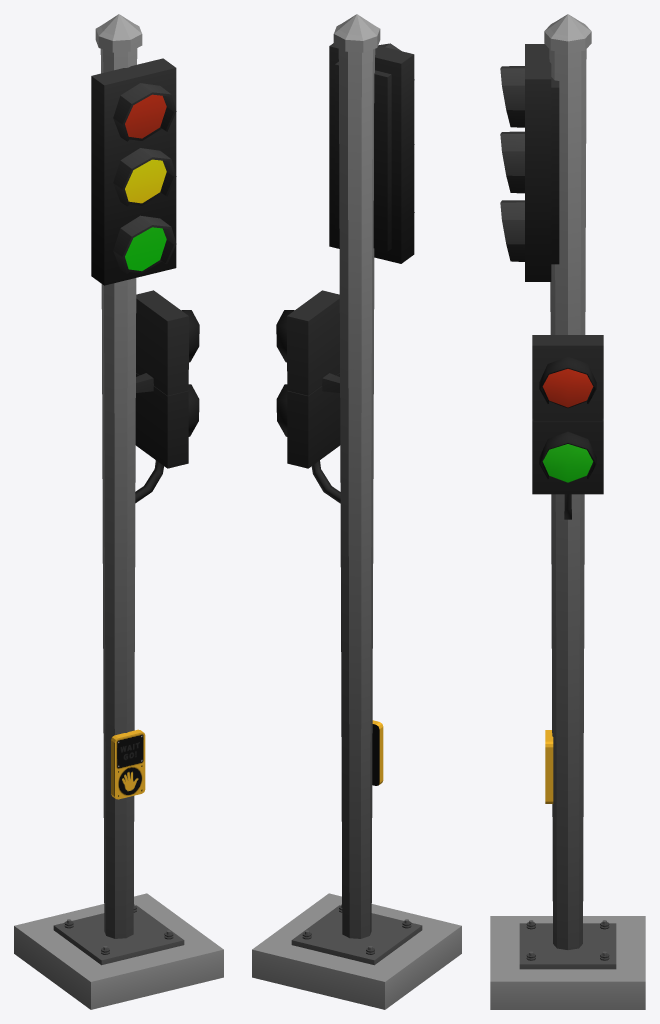
The model's file is TraficLight 2.fbx.
The picture shows the model from 3 angles, left to right: view 1: azimuth 30°, elevation 25°; view 2: azimuth 150°, elevation 25°; view 3: azimuth 270°, elevation 25°; orthographic projection.
Visible parts, largest first — view 1: TraficLight2Body1_LOD0, TraficLight2Body2_LOD0; view 2: TraficLight2Body1_LOD0, TraficLight2Body2_LOD0; view 3: TraficLight2Body1_LOD0, TraficLight2Body2_LOD0.
Part boxes in pixels (x1=…): TraficLight2Body1_LOD0: x1=14, y1=14, x2=223, y2=1009; TraficLight2Body2_LOD0: x1=91, y1=58, x2=199, y2=503; TraficLight2Body1_LOD0: x1=252, y1=14, x2=461, y2=1009; TraficLight2Body2_LOD0: x1=276, y1=43, x2=414, y2=503; TraficLight2Body1_LOD0: x1=490, y1=14, x2=645, y2=1009; TraficLight2Body2_LOD0: x1=500, y1=44, x2=603, y2=519.
Size of what is drawn, in the model's own units: 145 by 951 by 139.
